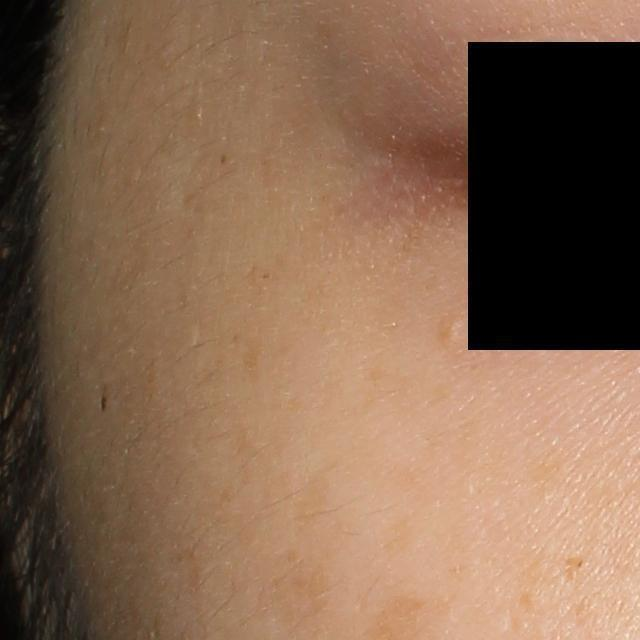melasma: (287, 464, 337, 539), (236, 324, 269, 383), (562, 550, 590, 586)
nevus: (97, 393, 108, 414)
